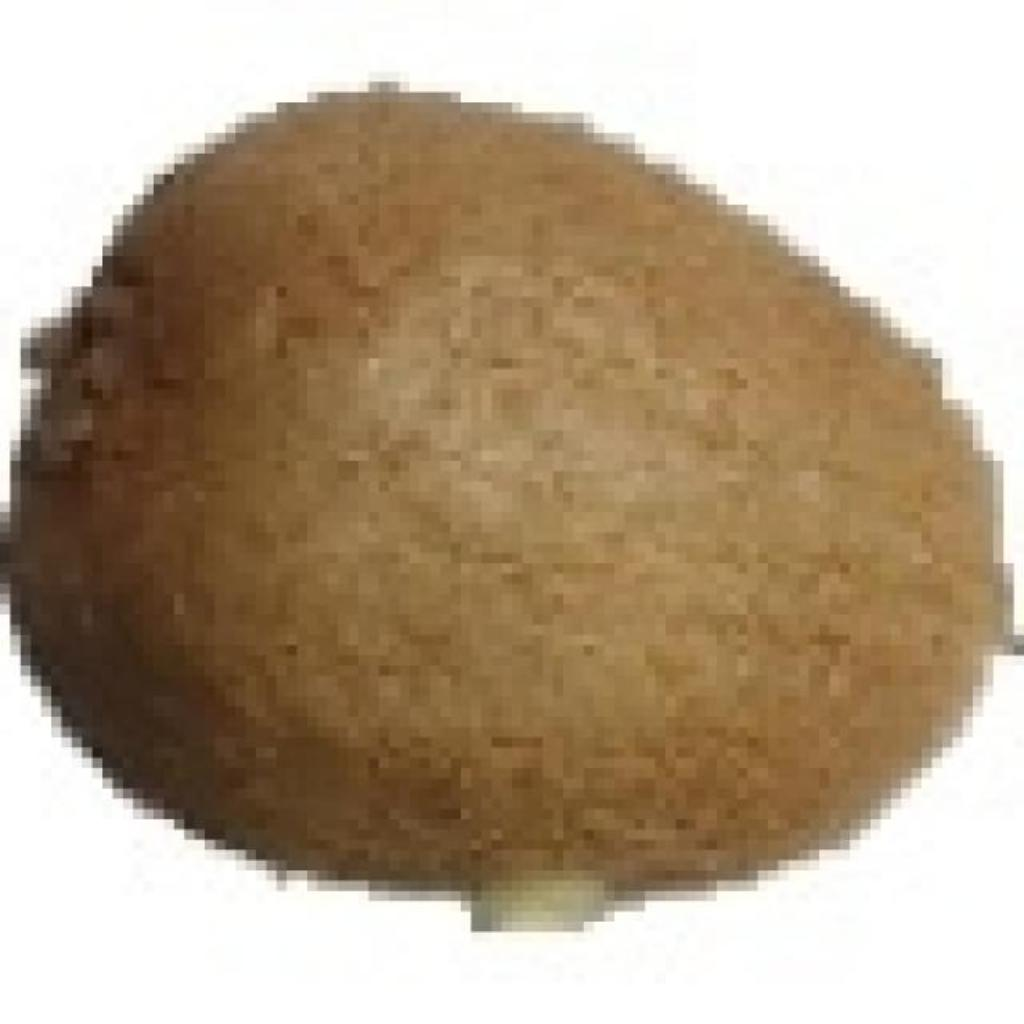kiwi: (31, 82, 1014, 901)
